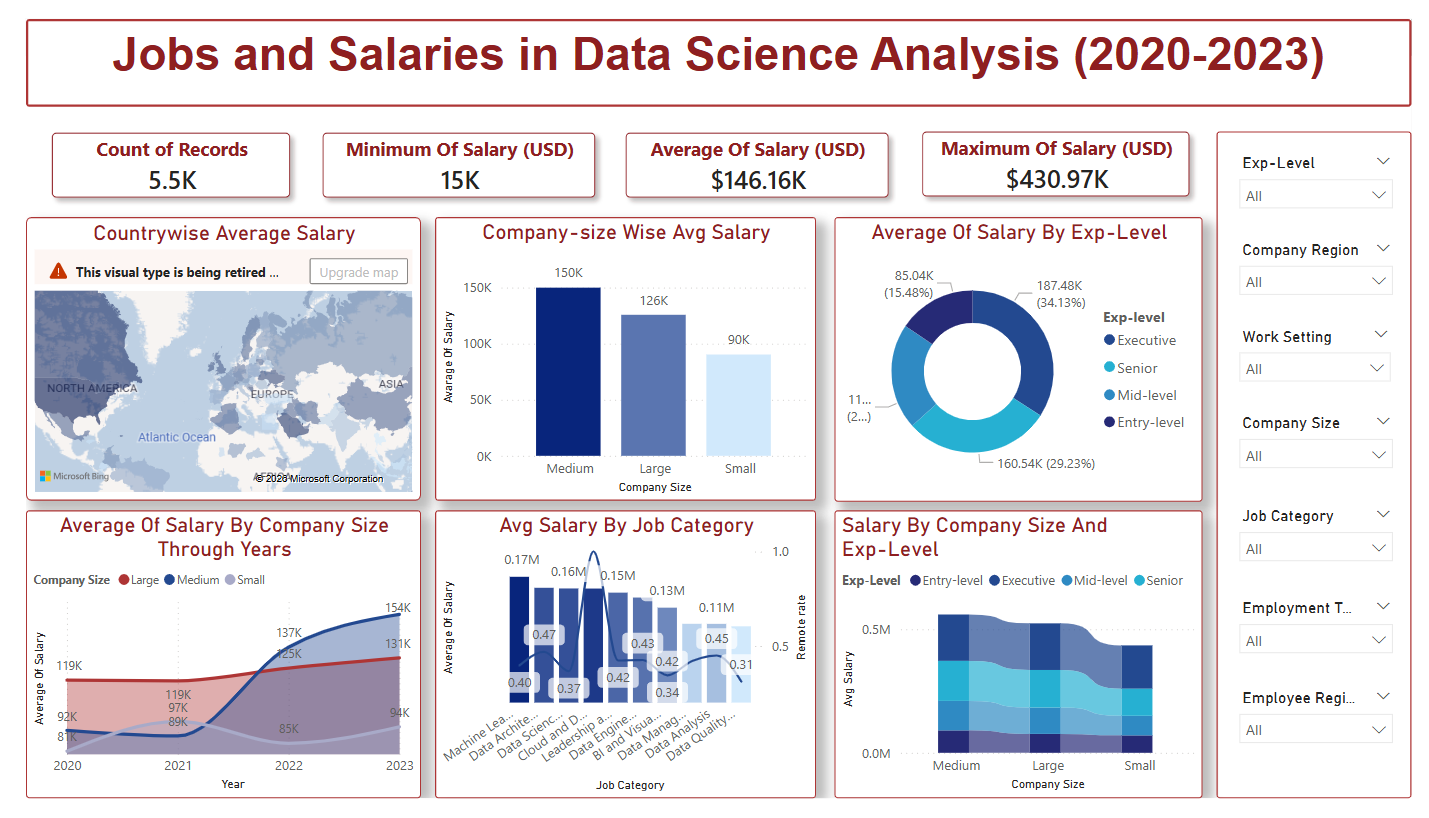

What the dashboard file says about the page in this screenshot:
{"tool":"powerbi","page":{"name":"Trang 1","canvas":[1280,720],"ordinal":0},"visuals":[{"type":"cardVisual","title":"Average Salary (USD)","fields":{"Data":["Avg(public vw_salary_analytics.salary_in_usd)"]},"box":[530,81.2,291.2,108.8],"z":0},{"type":"cardVisual","title":"Minmum Salary (USD)","fields":{"Data":["Min(public vw_salary_analytics.salary_in_usd)"]},"box":[250,80.8,300,108.8],"z":1000},{"type":"cardVisual","title":"Maximum Salary (USD)","fields":{"Data":["Max(public vw_salary_analytics.salary_in_usd)"]},"box":[803.8,80,295,108.8],"z":2000},{"type":"cardVisual","title":"Number Of Records","fields":{"Data":["Count(public vw_salary_analytics.fact_id)"]},"box":[0,81.2,268.8,108.8],"z":3000},{"type":"textbox","box":[0,0,1280,81],"z":4000},{"type":"filledMap","title":"Countrywise Average Salary","fields":{"Category":["public vw_salary_analytics.company_country"]},"box":[0,182.5,365,262.5],"z":5000},{"type":"clusteredColumnChart","title":"Company-size Wise Avg Salary","fields":{"Y":["Avg(public vw_salary_analytics.salary_in_usd)"],"Category":["public vw_salary_analytics.size_desc"]},"box":[377.8,182.5,352.5,262.5],"z":6000},{"type":"donutChart","title":"Average Of Salary By Exp-Level","fields":{"Y":["Avg(public vw_salary_analytics.salary_in_usd)"],"Category":["public vw_salary_analytics.level_name"]},"box":[747.1,182.9,340,262.9],"z":7000},{"type":"areaChart","title":"Average Of Salary By Company Size Through Years","fields":{"Category":["public vw_salary_analytics.year"],"Y":["Avg(public vw_salary_analytics.salary_in_usd)"],"Series":["public vw_salary_analytics.size_desc"]},"box":[0,453.8,365,266.2],"z":8000},{"type":"lineStackedColumnComboChart","title":"Avg Salary By Job Category","fields":{"Category":["public vw_salary_analytics.job_category_name"],"Y":["Avg(public vw_salary_analytics.salary_in_usd)"],"Y2":["Avg(public vw_salary_analytics.Is_Remote)"]},"box":[377.8,453.8,352.5,266.2],"z":9000},{"type":"ribbonChart","title":"Salary By Company Size And Exp-Level","fields":{"Y":["Avg(public vw_salary_analytics.salary_in_usd)"],"Category":["public vw_salary_analytics.size_desc"],"Series":["public vw_salary_analytics.level_name"]},"box":[747.1,454.3,340,265.7],"z":10000},{"type":"shape","box":[1100,104.3,180,615.7],"z":11000},{"type":"slicer","fields":{"Values":["public vw_salary_analytics.level_name"]},"box":[1111.4,120,161.4,67.1],"z":12000},{"type":"slicer","fields":{"Values":["public vw_salary_analytics.company_region"]},"box":[1111.4,200,161.4,70],"z":13000},{"type":"slicer","fields":{"Values":["public vw_salary_analytics.setting_name"]},"box":[1111.4,280,160,70],"z":14000},{"type":"slicer","fields":{"Values":["public vw_salary_analytics.size_desc"]},"box":[1111.4,360,161.4,70],"z":15000},{"type":"slicer","fields":{"Values":["public vw_salary_analytics.job_category_name"]},"box":[1111.4,445.7,161.4,70],"z":16000},{"type":"slicer","fields":{"Values":["public vw_salary_analytics.type_name"]},"box":[1111.4,531.4,161.4,70],"z":17000},{"type":"slicer","fields":{"Values":["public vw_salary_analytics.employee_region"]},"box":[1111.4,614.3,161.4,70],"z":18000}]}

Visuals, with their boxes in screenshot pixels (x1, y1, x2, y2), scaled from the page's 1280x720 canvas onto the 1429x818 screenshot:
"Average Salary (USD)" cardVisual: [x1=592, y1=92, x2=917, y2=216]
"Minmum Salary (USD)" cardVisual: [x1=279, y1=92, x2=614, y2=215]
"Maximum Salary (USD)" cardVisual: [x1=897, y1=91, x2=1227, y2=214]
"Number Of Records" cardVisual: [x1=0, y1=92, x2=300, y2=216]
textbox: [x1=0, y1=0, x2=1428, y2=92]
"Countrywise Average Salary" filledMap: [x1=0, y1=207, x2=407, y2=506]
"Company-size Wise Avg Salary" clusteredColumnChart: [x1=422, y1=207, x2=815, y2=506]
"Average Of Salary By Exp-Level" donutChart: [x1=834, y1=208, x2=1214, y2=506]
"Average Of Salary By Company Size Through Years" areaChart: [x1=0, y1=516, x2=407, y2=817]
"Avg Salary By Job Category" lineStackedColumnComboChart: [x1=422, y1=516, x2=815, y2=817]
"Salary By Company Size And Exp-Level" ribbonChart: [x1=834, y1=516, x2=1214, y2=817]
shape: [x1=1228, y1=118, x2=1428, y2=817]
slicer - public vw_salary_analytics.level_name: [x1=1241, y1=136, x2=1421, y2=213]
slicer - public vw_salary_analytics.company_region: [x1=1241, y1=227, x2=1421, y2=307]
slicer - public vw_salary_analytics.setting_name: [x1=1241, y1=318, x2=1419, y2=398]
slicer - public vw_salary_analytics.size_desc: [x1=1241, y1=409, x2=1421, y2=489]
slicer - public vw_salary_analytics.job_category_name: [x1=1241, y1=506, x2=1421, y2=586]
slicer - public vw_salary_analytics.type_name: [x1=1241, y1=604, x2=1421, y2=683]
slicer - public vw_salary_analytics.employee_region: [x1=1241, y1=698, x2=1421, y2=777]
